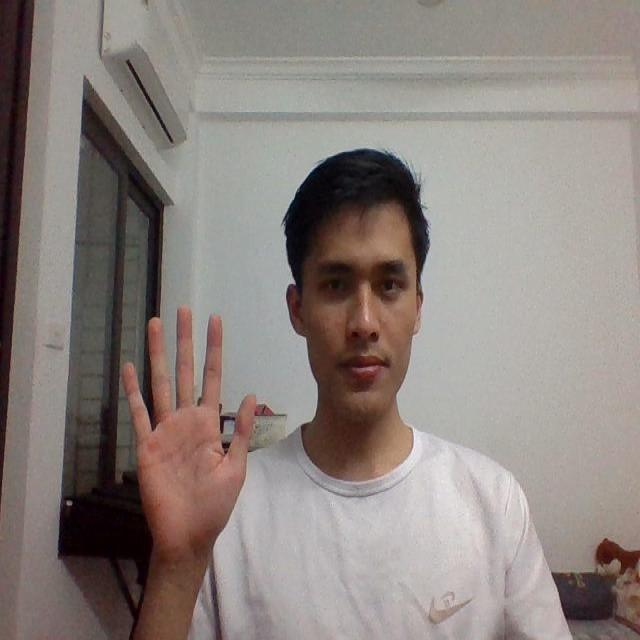hello: (117, 301, 263, 557)
